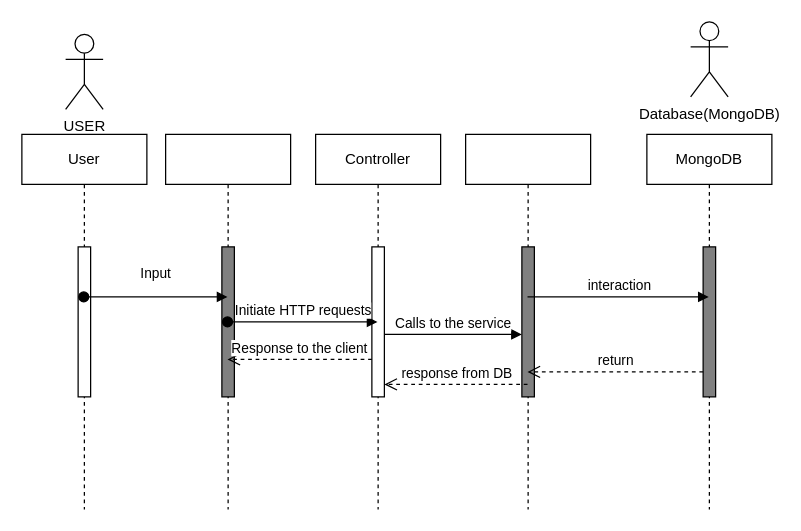
Some shapes in this 801 by 531 pixel diagram are drawn without their labels. The shapes that lost their labels are listed below. From the top down, each one's box as (x1, y1, x2, y2) in pixels, then its label:
(164, 133, 291, 509): Client/API
(464, 133, 591, 509): Service
